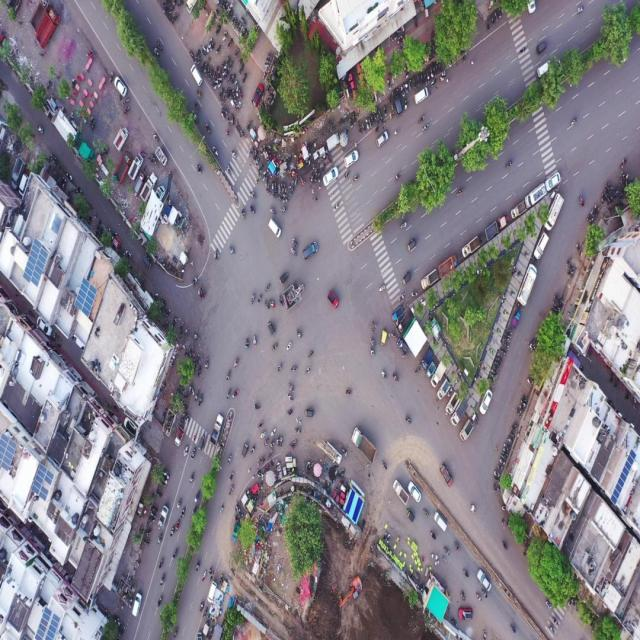3W: (534, 38, 548, 54), (266, 318, 276, 338), (240, 439, 250, 459), (278, 270, 290, 286), (380, 327, 389, 347), (198, 432, 206, 454), (405, 509, 416, 524), (304, 404, 314, 420), (407, 236, 416, 253), (401, 271, 411, 286)
Cars: (438, 458, 453, 492), (534, 231, 550, 262), (302, 239, 320, 264), (475, 566, 493, 590), (250, 81, 264, 110), (479, 389, 493, 416), (408, 476, 421, 504), (132, 589, 144, 619), (113, 77, 130, 98), (266, 218, 282, 240), (322, 167, 338, 189), (545, 171, 561, 193), (188, 64, 203, 87), (434, 508, 448, 531), (344, 149, 359, 168), (376, 131, 391, 149), (536, 59, 551, 77), (392, 87, 401, 117), (414, 87, 428, 106)
LCV: (546, 194, 566, 236), (519, 264, 538, 304), (526, 183, 546, 208), (438, 254, 460, 276), (390, 480, 409, 505), (325, 442, 342, 468), (420, 266, 439, 289), (461, 236, 479, 260), (209, 413, 222, 446), (450, 400, 467, 425), (459, 416, 473, 446), (432, 360, 446, 389), (114, 125, 129, 152), (142, 174, 156, 200), (445, 392, 460, 416), (130, 154, 143, 180), (133, 170, 146, 196), (157, 504, 169, 530), (396, 312, 410, 334), (326, 288, 339, 311), (155, 146, 169, 166), (420, 349, 433, 370), (510, 200, 526, 217), (326, 132, 341, 150), (438, 379, 450, 401), (391, 306, 403, 322), (397, 337, 407, 356), (510, 310, 520, 329), (175, 425, 184, 446), (426, 362, 436, 378)
M2W: (566, 115, 578, 129), (194, 556, 203, 574), (240, 199, 246, 226), (398, 218, 409, 232), (404, 411, 413, 428), (188, 471, 197, 488), (248, 203, 256, 222), (228, 243, 238, 258), (378, 280, 386, 298), (227, 468, 236, 484), (156, 531, 165, 546), (224, 366, 232, 382), (190, 448, 198, 464), (180, 503, 188, 519), (211, 143, 219, 159), (192, 489, 201, 503), (195, 160, 204, 174), (157, 556, 165, 571), (248, 190, 260, 200), (332, 201, 342, 213), (455, 188, 465, 200), (380, 461, 389, 474), (264, 281, 273, 294), (171, 545, 180, 558), (500, 539, 509, 552), (544, 599, 553, 612), (504, 159, 513, 172), (619, 157, 628, 170), (276, 358, 283, 374), (213, 246, 220, 262), (392, 368, 399, 384), (182, 444, 189, 460), (160, 571, 167, 587), (421, 506, 429, 520), (108, 70, 115, 86), (452, 541, 462, 552), (461, 568, 471, 579), (194, 88, 204, 99), (250, 288, 256, 306), (290, 236, 299, 248), (156, 40, 165, 52), (232, 147, 239, 162), (459, 589, 467, 602), (429, 529, 437, 542), (152, 131, 160, 144), (203, 355, 209, 372), (289, 247, 298, 258), (201, 568, 208, 582), (225, 164, 232, 178), (250, 442, 257, 456), (578, 194, 585, 208), (88, 114, 95, 128), (285, 340, 293, 352), (226, 451, 232, 467), (226, 385, 232, 401), (172, 624, 178, 640), (271, 342, 279, 354), (526, 376, 534, 388), (308, 348, 315, 361), (345, 385, 352, 398), (218, 503, 225, 516), (481, 589, 488, 602), (193, 388, 200, 401), (157, 594, 164, 607), (204, 122, 211, 135), (295, 326, 301, 341), (382, 367, 388, 382), (243, 337, 249, 352), (551, 616, 560, 626), (122, 104, 132, 113), (269, 298, 277, 309), (286, 405, 294, 416), (474, 591, 482, 602), (443, 547, 451, 558), (192, 100, 200, 111), (393, 171, 401, 182), (417, 114, 425, 125), (152, 47, 160, 58), (369, 348, 376, 360), (258, 292, 264, 306), (174, 497, 181, 509), (548, 624, 555, 636), (422, 120, 429, 132), (577, 3, 584, 15), (221, 29, 228, 41), (382, 104, 388, 118), (451, 614, 457, 628), (575, 242, 582, 254), (256, 420, 264, 430), (176, 516, 181, 532), (170, 522, 175, 538), (191, 112, 199, 122), (397, 293, 407, 301), (264, 299, 270, 312), (288, 379, 294, 392), (228, 484, 234, 497), (198, 394, 204, 407), (493, 10, 499, 23), (353, 173, 360, 184), (233, 47, 240, 58), (510, 624, 517, 635), (304, 365, 310, 377), (215, 44, 221, 56), (215, 24, 221, 36), (226, 73, 232, 85), (150, 505, 159, 513), (155, 490, 163, 499), (269, 207, 277, 216), (283, 192, 289, 204), (502, 342, 511, 350), (499, 347, 507, 356), (231, 390, 238, 400), (519, 44, 526, 54), (386, 77, 391, 91), (341, 447, 348, 457), (290, 363, 296, 374), (270, 426, 276, 437), (207, 37, 213, 48), (238, 64, 244, 75), (552, 293, 558, 304), (566, 255, 572, 266), (230, 113, 235, 126), (172, 315, 177, 328), (264, 175, 269, 188), (590, 208, 595, 221), (294, 426, 302, 434), (123, 96, 131, 104), (411, 290, 419, 298), (142, 538, 150, 546), (506, 436, 514, 444), (510, 422, 518, 430), (566, 270, 574, 278), (568, 264, 576, 272), (253, 401, 260, 410), (513, 408, 520, 417), (198, 602, 204, 612), (344, 170, 350, 180), (370, 338, 376, 348), (227, 38, 233, 48), (220, 60, 226, 70), (200, 62, 206, 72), (213, 65, 218, 77), (218, 87, 224, 97), (254, 156, 260, 166), (300, 175, 305, 187), (430, 78, 436, 88), (490, 13, 494, 28), (482, 630, 488, 640), (586, 213, 592, 223), (357, 122, 361, 136), (361, 120, 365, 134), (504, 442, 511, 450), (241, 73, 247, 82), (71, 77, 75, 90), (368, 116, 372, 129), (388, 95, 392, 108), (498, 6, 502, 19), (253, 334, 256, 351), (228, 61, 233, 71), (249, 146, 254, 156), (258, 162, 263, 172), (326, 155, 331, 165), (493, 477, 500, 484), (493, 470, 500, 477), (497, 465, 504, 472), (492, 364, 499, 371), (495, 356, 502, 363), (234, 356, 238, 368), (238, 86, 242, 98), (198, 364, 202, 376), (280, 206, 288, 212), (262, 170, 266, 182), (317, 170, 321, 182), (348, 116, 352, 128), (352, 113, 356, 125), (365, 118, 369, 130), (378, 108, 382, 120), (370, 113, 374, 125), (402, 86, 406, 98), (462, 51, 466, 63), (501, 451, 509, 457), (264, 438, 269, 447), (206, 67, 211, 76), (224, 86, 229, 95), (253, 150, 258, 159), (289, 187, 294, 196), (503, 333, 512, 338), (214, 79, 218, 90), (277, 183, 281, 194), (145, 530, 151, 537), (150, 512, 156, 519), (279, 196, 285, 203), (417, 74, 420, 88), (433, 64, 436, 78), (408, 78, 411, 92), (487, 18, 490, 32), (520, 399, 526, 406), (551, 306, 558, 312), (92, 119, 96, 129), (232, 73, 236, 83), (223, 63, 227, 73), (289, 180, 294, 188), (321, 162, 325, 172), (375, 122, 379, 132), (412, 78, 416, 88), (517, 303, 522, 311), (404, 98, 407, 111), (436, 63, 439, 76), (235, 80, 238, 92), (200, 49, 206, 55), (218, 78, 222, 87), (274, 181, 277, 193), (424, 73, 427, 85), (499, 459, 505, 465), (414, 368, 419, 375), (506, 329, 513, 334), (196, 47, 199, 58), (284, 182, 287, 193), (421, 71, 423, 87), (438, 63, 441, 73), (227, 55, 230, 64), (281, 183, 284, 192), (376, 106, 378, 119)
Truck: (350, 422, 378, 466), (36, 9, 58, 47), (114, 151, 132, 187)
